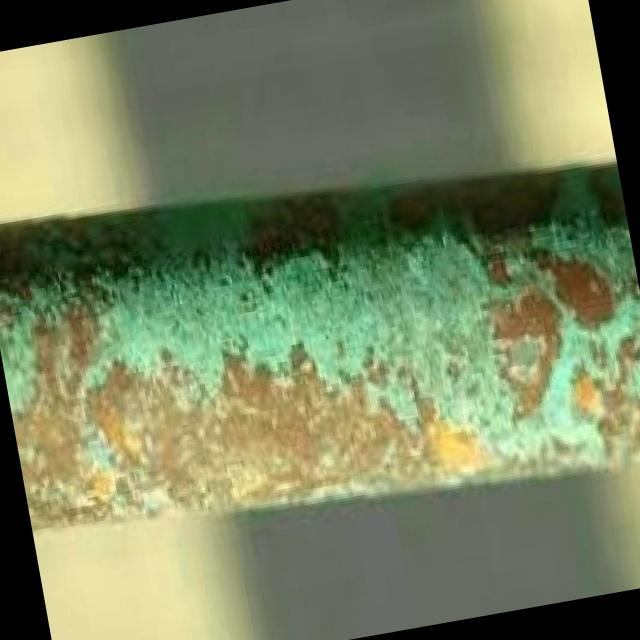rust: (0, 112, 639, 576)
